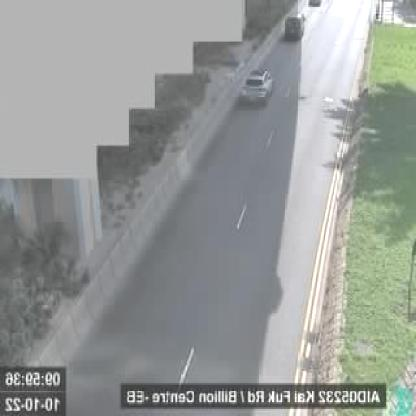Car: (240, 68, 274, 106), (286, 12, 304, 39), (310, 1, 322, 8)
